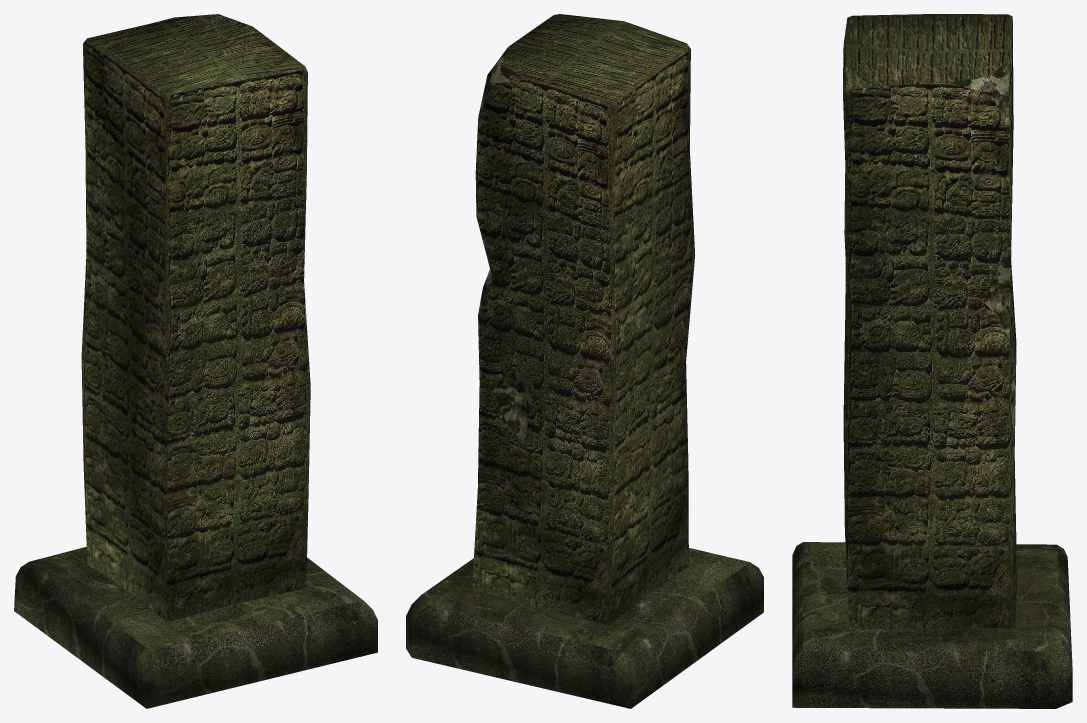
File: ADDON_DUNGEON_PILLAR_02.glb
3 views of the same model, side by side, from view 1: azimuth 30°, elevation 25°; view 2: azimuth 150°, elevation 25°; view 3: azimuth 270°, elevation 25° (orthographic). The views are drawn at different scales.
Parts seen in each view (by area): view 1: Mesh; view 2: Mesh; view 3: Mesh.
Boxes of the visible parts, <box> form: Mesh: <box>14,14,377,708</box>; Mesh: <box>406,14,763,708</box>; Mesh: <box>792,14,1072,708</box>.
Bounding box in the file's own units: 1.22 × 2.92 × 1.22.
3 materials, 3 textured.
